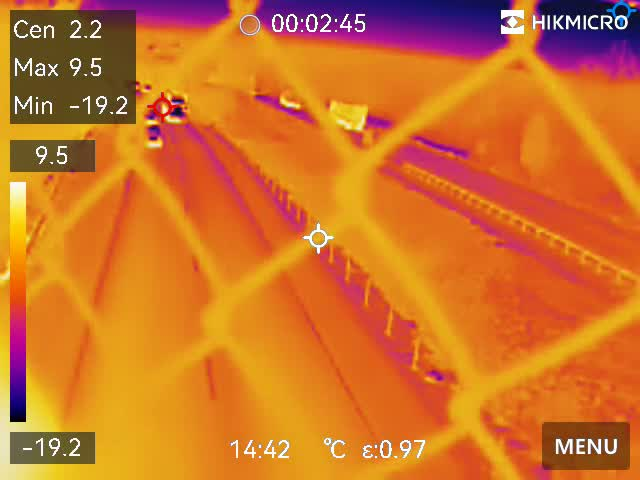heavyTruck: (324, 95, 373, 136), (156, 89, 196, 128)
vehicle: (140, 115, 164, 155)
